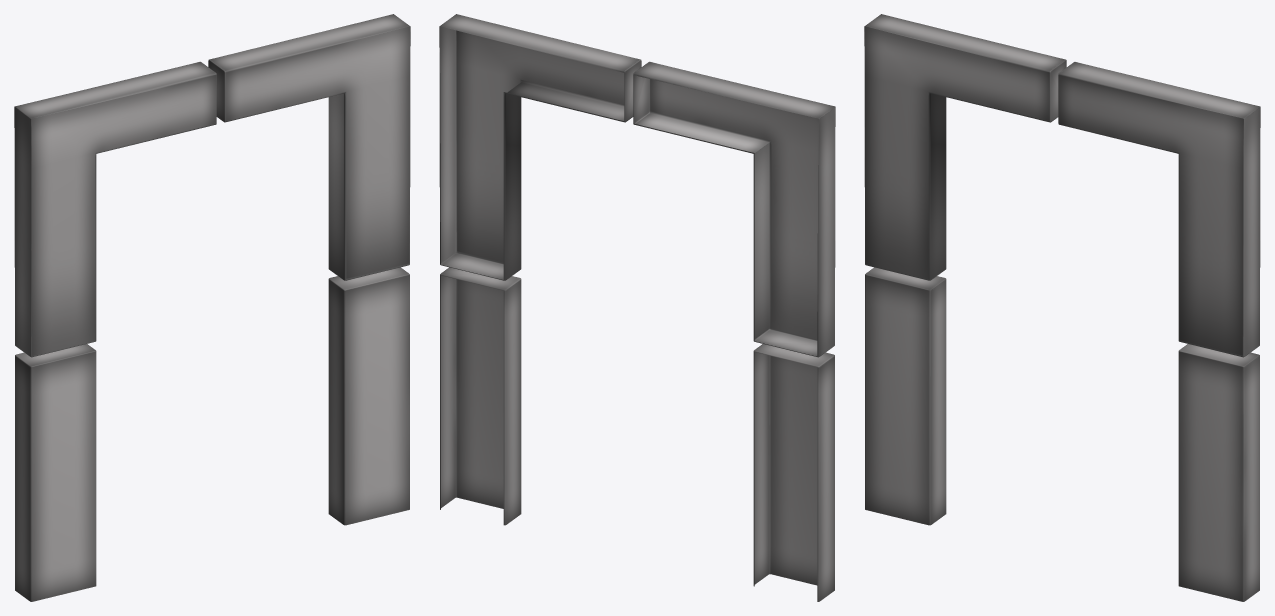
File: DoorFrameLight01_4.FBX
3 renders of one model, left to right at view 1: azimuth 30°, elevation 25°; view 2: azimuth 150°, elevation 25°; view 3: azimuth 330°, elevation 25°, orthographic.
Visible parts, largest first — view 1: Doorway01; view 2: Doorway01; view 3: Doorway01.
Part boxes in pixels (<box>): Doorway01: <box>14,14,410,601</box>; Doorway01: <box>439,14,835,601</box>; Doorway01: <box>864,14,1260,601</box>.
Size of the model in its own units: 230 by 280 by 17.5.
